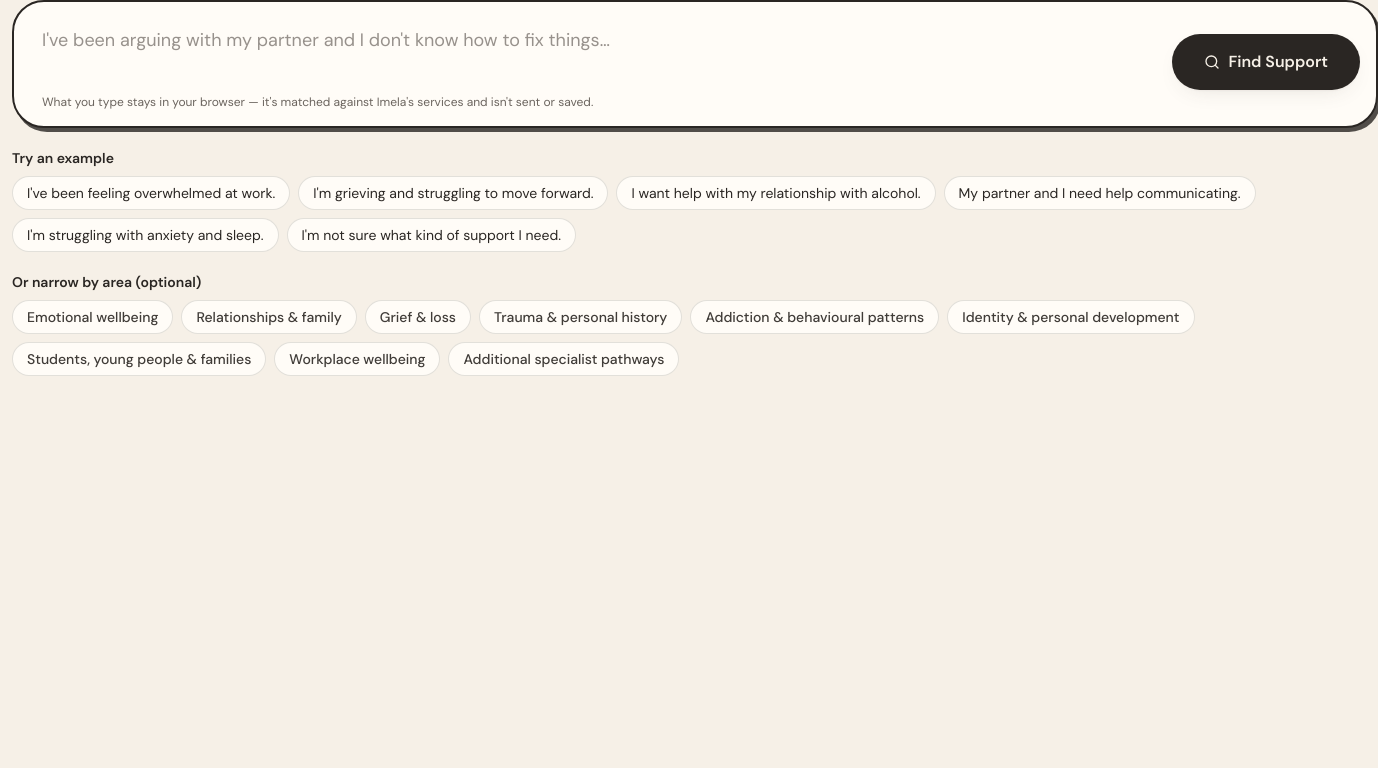
Test: NeedFinder › prioritises urgent human support over recommendations when risk is expressed
The image size is (1378, 768).
Type "I want to end my life" into the text box named "Describe what you need".
click(595, 54); type("I want to end my life")  # box [30,18,1160,90]
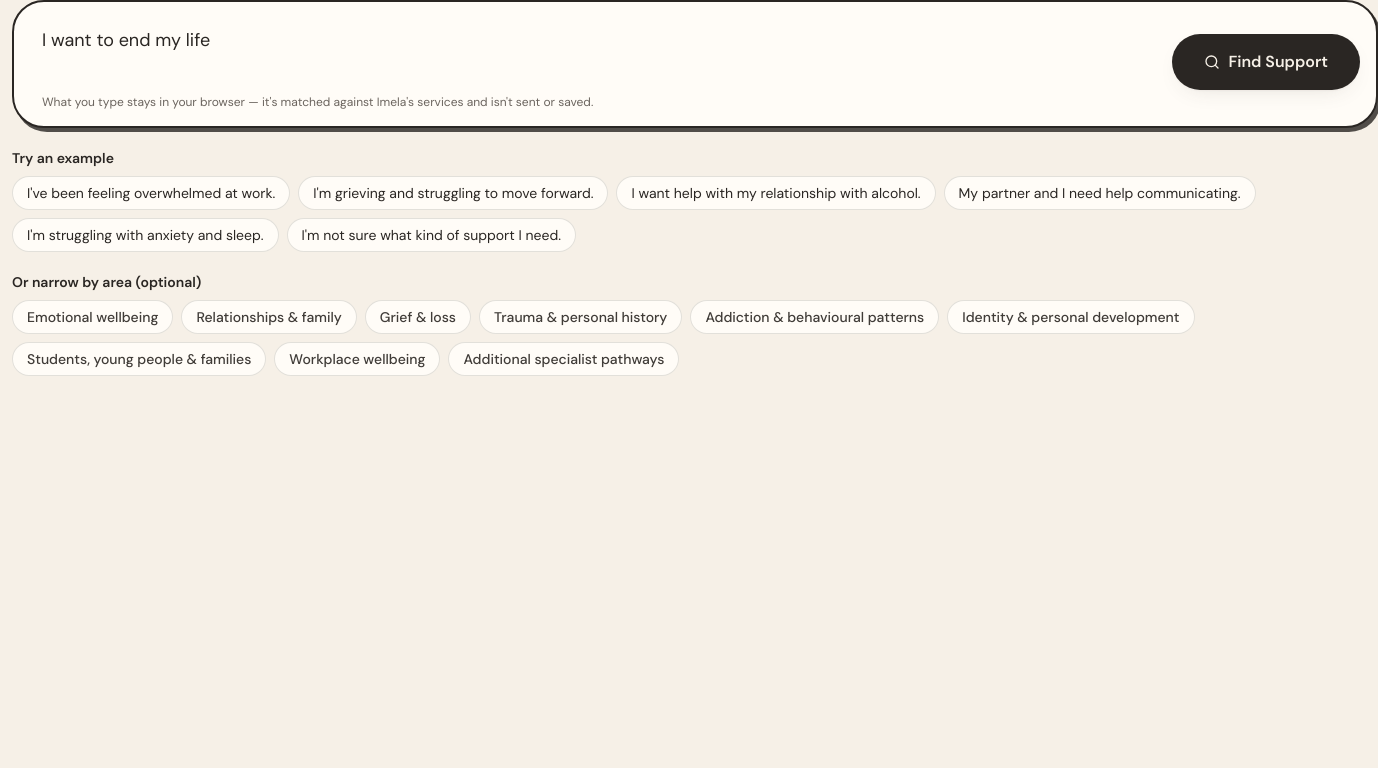
Click the button "Find Support".
click(1266, 62)  # box [1172,34,1360,90]
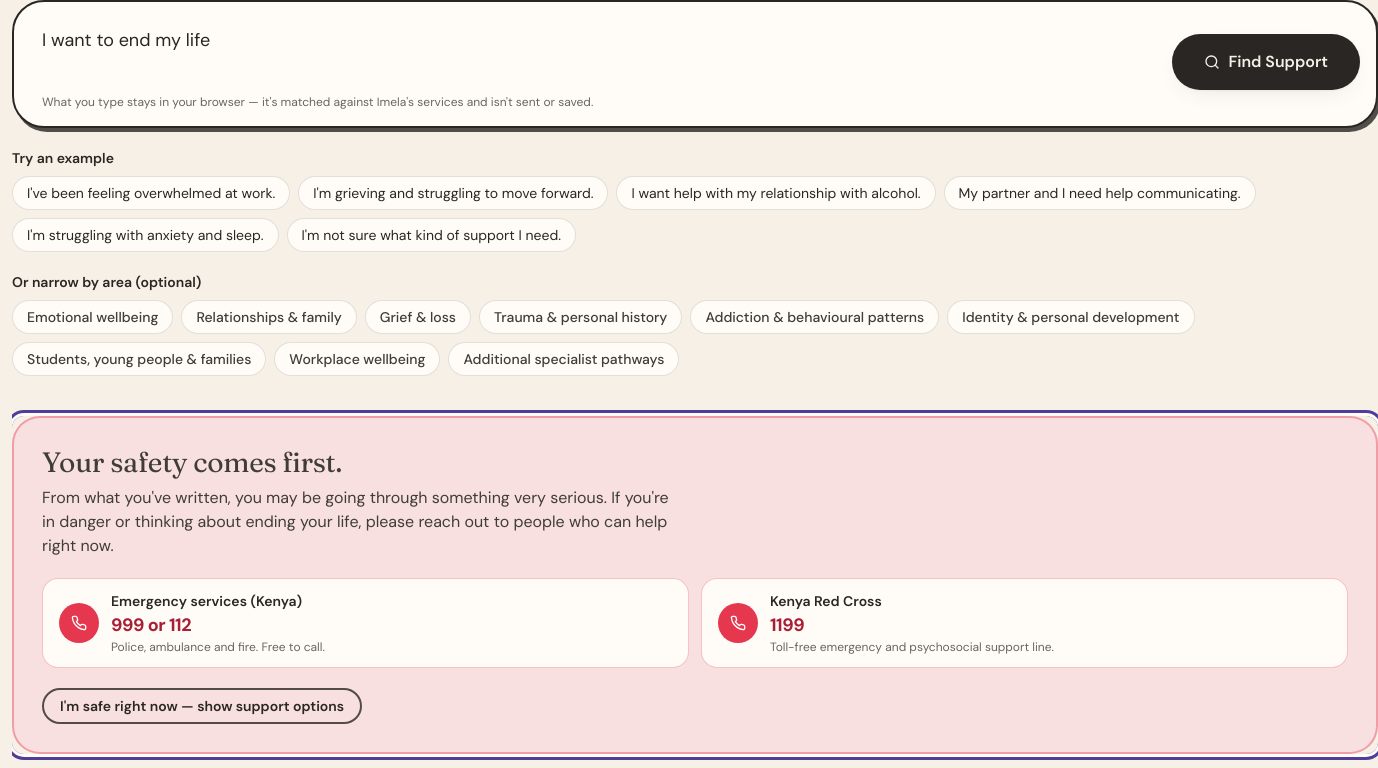
Result: the text "Your safety comes first." is shown at [42,445,342,479]
Result: the text "999 or 112" is shown at [111,613,191,637]
